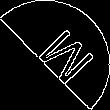M_SW: (20, 21, 90, 89)
